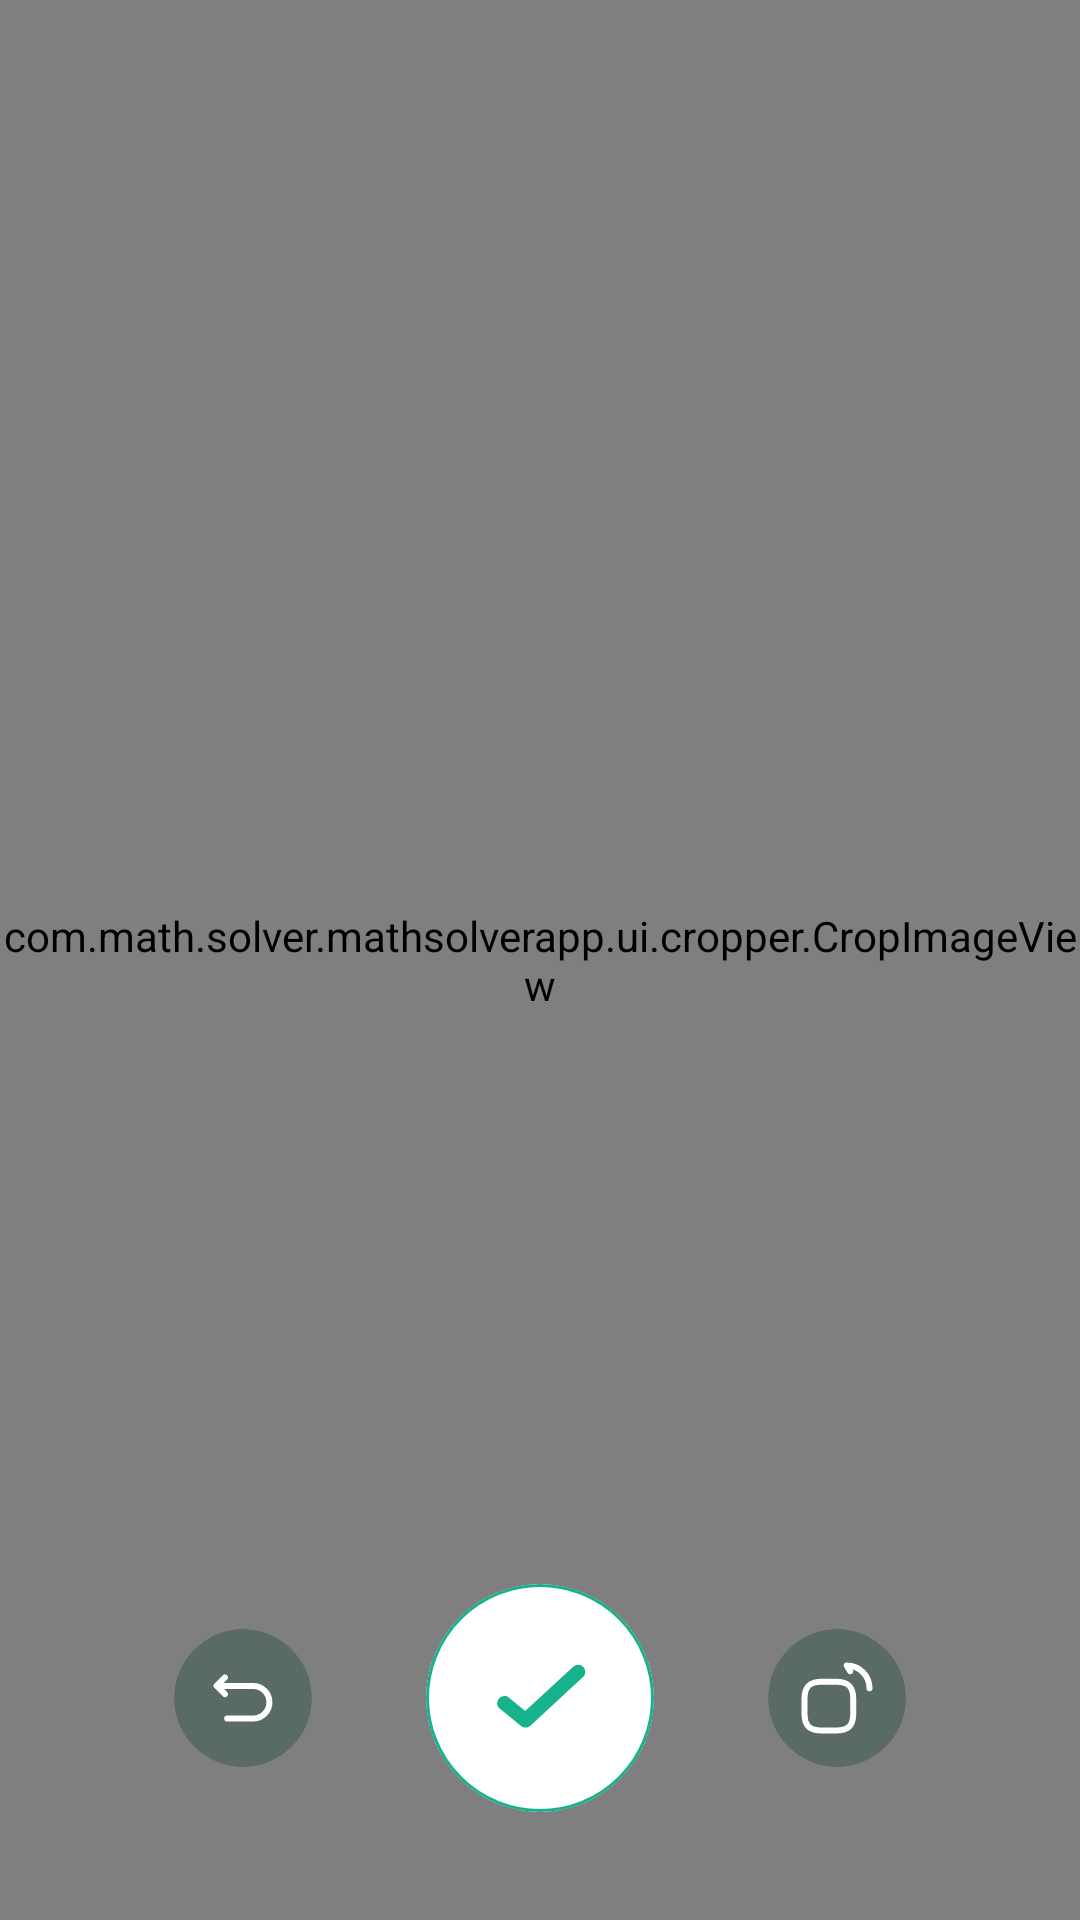

Named icons in this screenshot (1080w x 1920h) and their bounding boxes, (x1, y1, x2, y2):
camera tick: (497, 1664, 586, 1728)
return: (213, 1674, 273, 1722)
